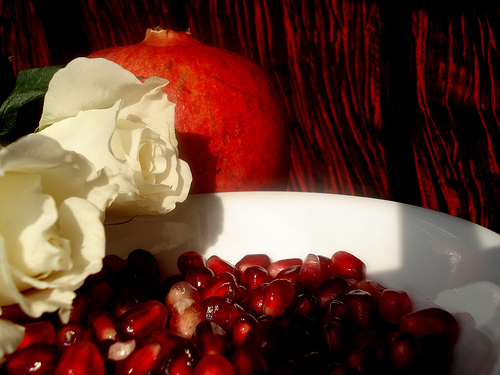pomogranate: (0, 249, 463, 374), (84, 28, 286, 191)
